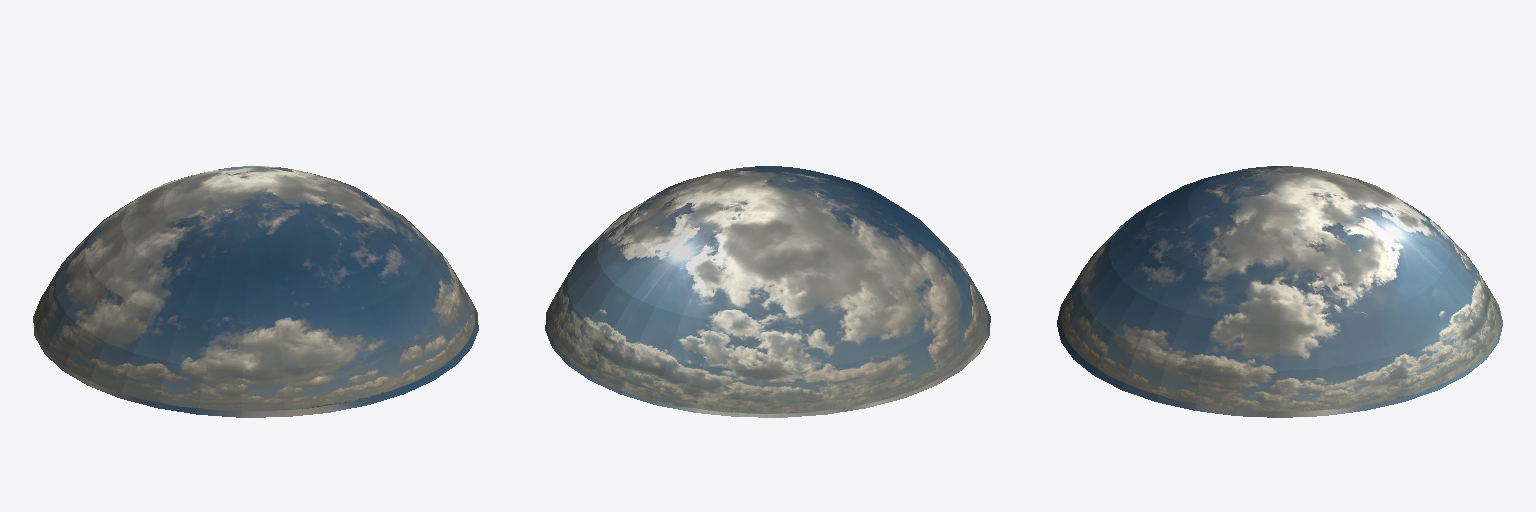
The picture shows the model from 3 angles: view 1: azimuth 30°, elevation 25°; view 2: azimuth 150°, elevation 25°; view 3: azimuth 270°, elevation 25°; orthographic projection.
Parts seen in each view (by area): view 1: skydome_Sphere; view 2: skydome_Sphere; view 3: skydome_Sphere.
Part boxes in pixels (bbox=[...]): skydome_Sphere: bbox=[33, 166, 478, 417]; skydome_Sphere: bbox=[545, 166, 990, 417]; skydome_Sphere: bbox=[1057, 166, 1502, 417].
Size of the model in its own units: 131 by 43.65 by 131.
Materials: 1 (1 with a texture image).